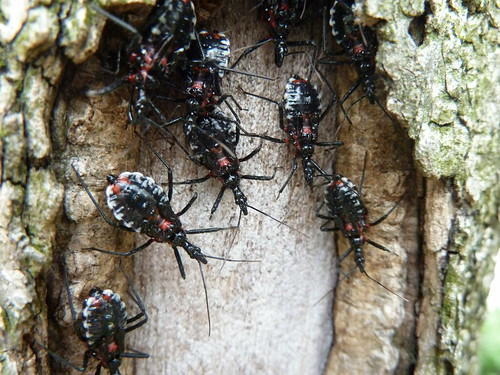insect: (80, 141, 236, 331), (94, 1, 202, 137), (306, 173, 403, 313), (260, 66, 357, 206), (174, 94, 271, 234), (43, 278, 146, 375)
